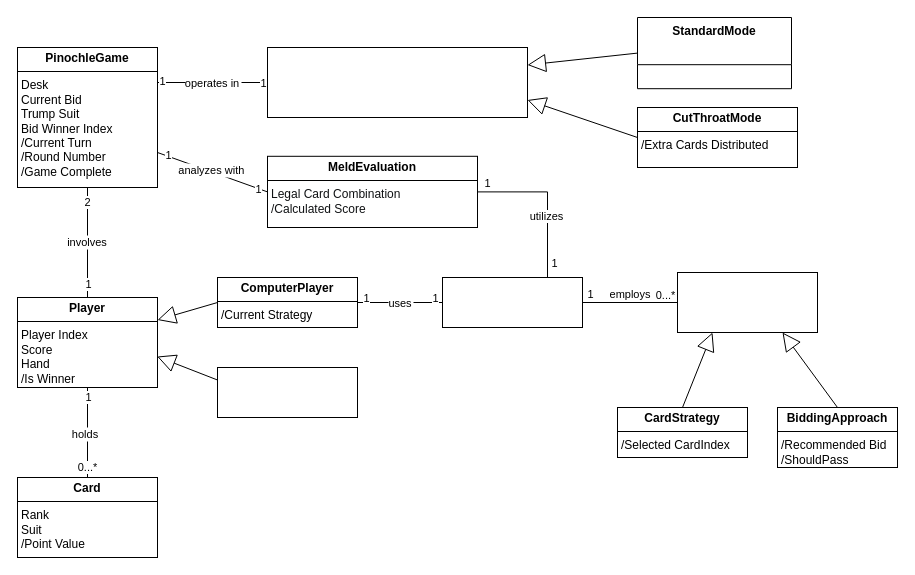
Image size: 915x575. Some labels were removed from this diagram. Each missing label, with the centre of its shape:
"GameIntelligence(AI) /Can Decide" goes at pixel 512 302.
"GameMode Mode Name/id /Is Applicable" goes at pixel 397 82.
"HumanPlayer /Needs Input" goes at pixel 287 392.
"StrategicCapability Priority /Is Active" goes at pixel 747 302.
